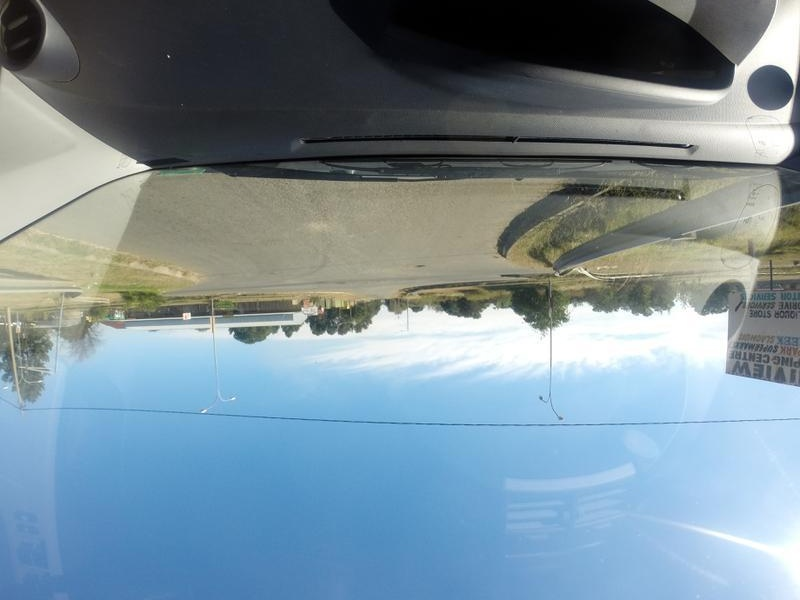pothole: (397, 259, 426, 272)
